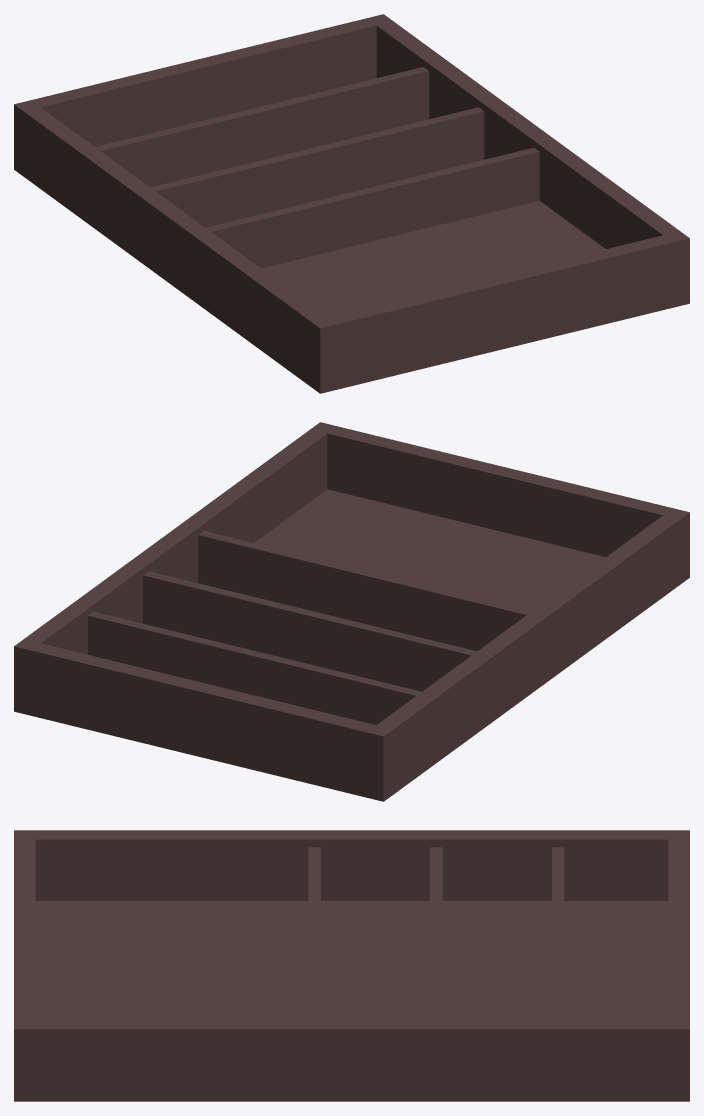
The model's file is prop_37.FBX.
3 renders of one model, top to bottom at view 1: azimuth 30°, elevation 25°; view 2: azimuth 150°, elevation 25°; view 3: azimuth 270°, elevation 25°, orthographic. The views are drawn at different scales.
Visible parts, largest first — view 1: prop_37; view 2: prop_37; view 3: prop_37.
Boxes of the visible parts, x1=… form: prop_37: x1=14, y1=14, x2=689, y2=393; prop_37: x1=14, y1=422, x2=689, y2=801; prop_37: x1=14, y1=830, x2=689, y2=1101.
Size of the model in its own units: 34.67 by 5.85 by 49.76.
